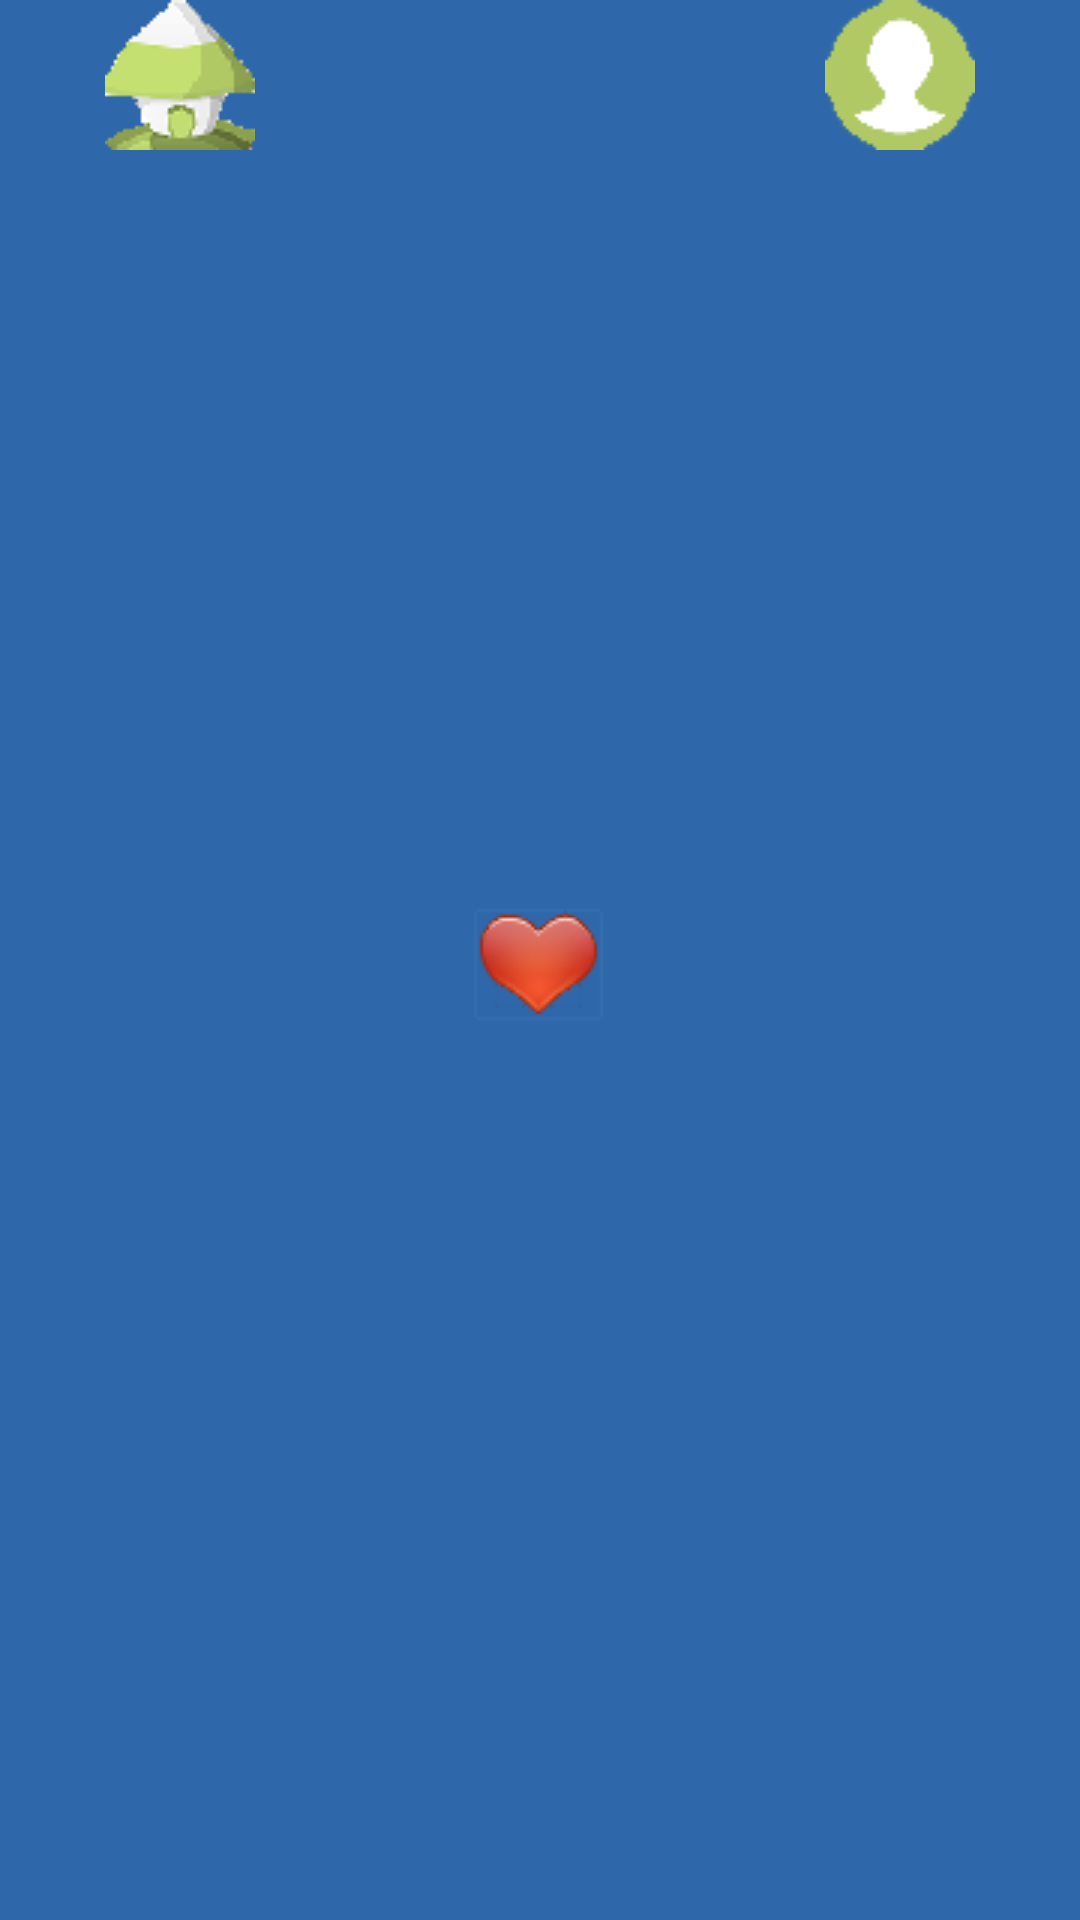

Where to tap for icons on this 1080 x 1920 app screen, as (x=x, y=y):
heart: (x=538, y=963)
home: (x=180, y=75)
person: (x=900, y=75)
